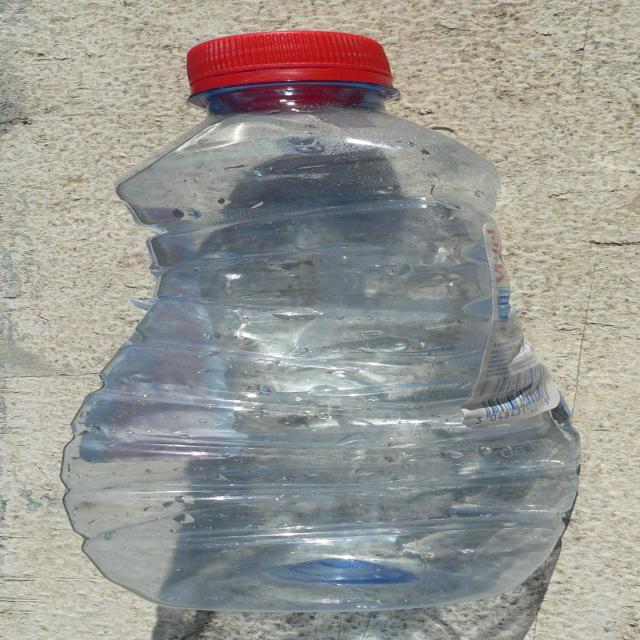bottle: (62, 29, 588, 626)
